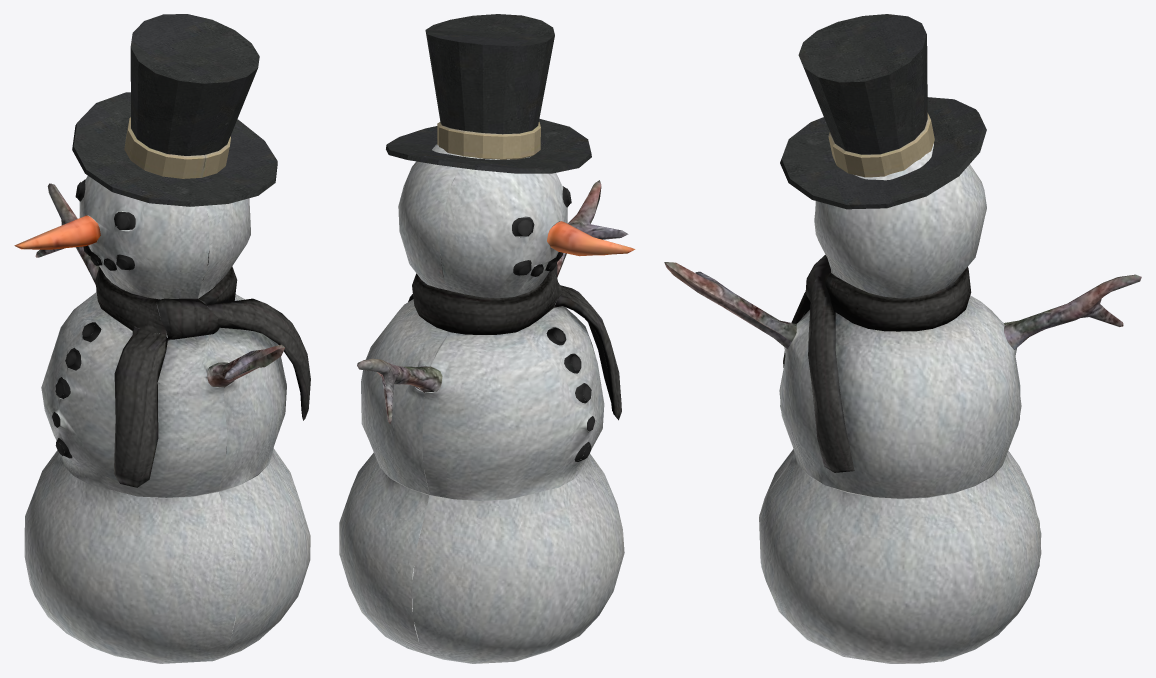
File: snowman.glb
3 views of the same model, side by side, from view 1: azimuth 30°, elevation 25°; view 2: azimuth 150°, elevation 25°; view 3: azimuth 270°, elevation 25° (orthographic).
Parts seen in each view (by area): view 1: snowman; view 2: snowman; view 3: snowman.
Boxes of the visible parts, x1,y1,x2,y2 form: snowman: [14, 14, 310, 663]; snowman: [339, 14, 635, 663]; snowman: [664, 14, 1141, 663].
Size of the model in its own units: 0.7483 by 1.55 by 1.11.
Materials: 2 (2 with a texture image).
